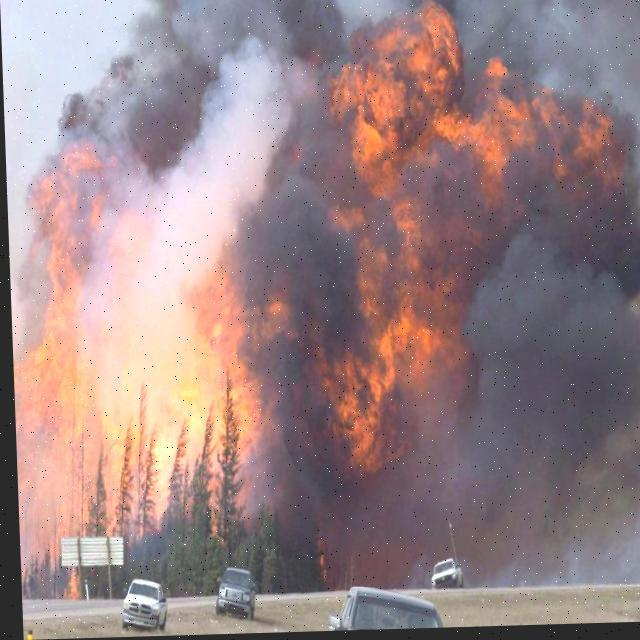Fire: (314, 15, 629, 475), (20, 152, 286, 578)
